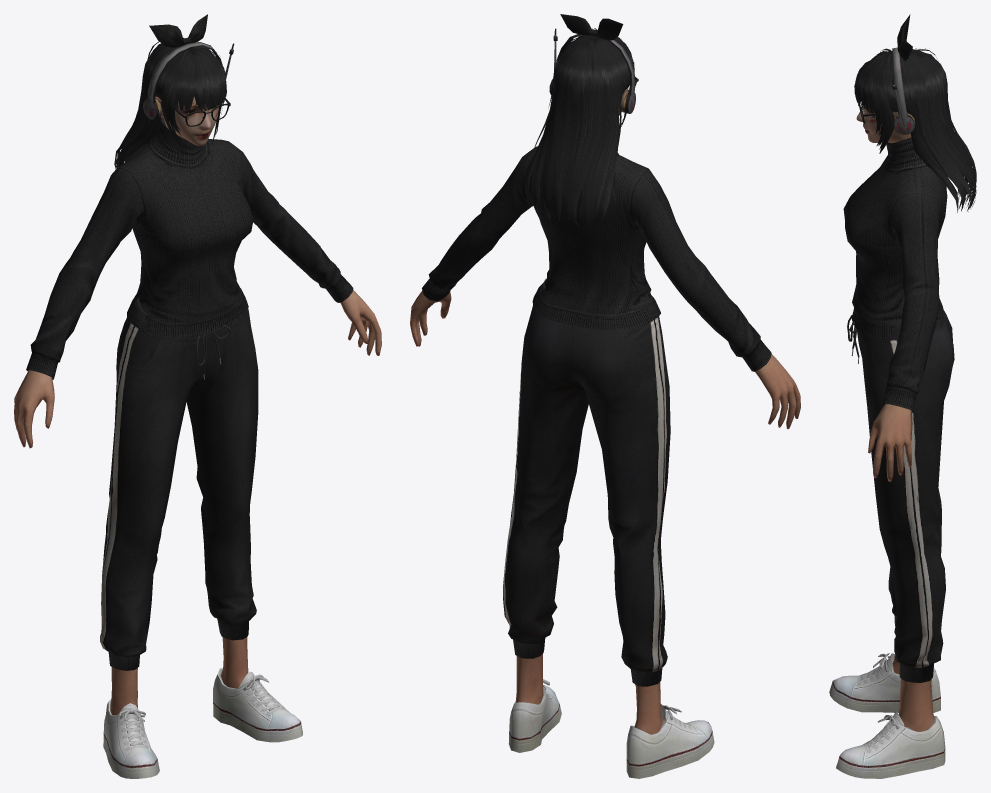
The model's file is girlblack.fbx.
3 views of the same model, side by side, from view 1: azimuth 30°, elevation 25°; view 2: azimuth 150°, elevation 25°; view 3: azimuth 270°, elevation 25° (orthographic). The views are drawn at different scales.
Visible parts, largest first — view 1: Object_4, Object_5, Object_3, Object_2, Object_8, Object_7; view 2: Object_4, Object_5, Object_8, Object_3, Object_2, Object_7; view 3: Object_4, Object_5, Object_8, Object_3, Object_2, Object_7.
Boxes of the visible parts, left/top/right/bottom form: Object_4: left=100, top=298, right=258, bottom=670; Object_5: left=26, top=117, right=353, bottom=379; Object_3: left=103, top=668, right=302, bottom=778; Object_2: left=14, top=96, right=381, bottom=715; Object_8: left=114, top=37, right=226, bottom=169; Object_7: left=143, top=14, right=234, bottom=119; Object_4: left=503, top=278, right=670, bottom=686; Object_5: left=422, top=146, right=771, bottom=371; Object_8: left=524, top=28, right=634, bottom=226; Object_3: left=508, top=679, right=714, bottom=778; Object_2: left=410, top=79, right=800, bottom=734; Object_7: left=549, top=14, right=635, bottom=113; Object_4: left=847, top=309, right=954, bottom=682; Object_5: left=843, top=137, right=947, bottom=412; Object_8: left=854, top=48, right=976, bottom=212; Object_3: left=829, top=653, right=945, bottom=778; Object_2: left=855, top=102, right=934, bottom=731; Object_7: left=891, top=14, right=915, bottom=134.
Bounding box in the file's own units: 287 × 536 × 101.
7 materials, 7 textured.
